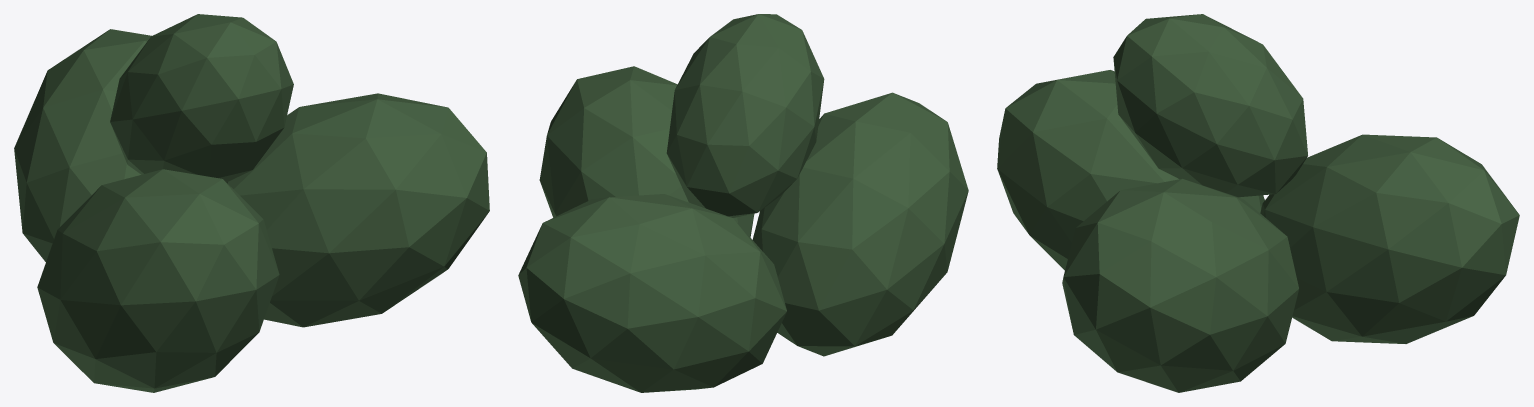
Rendered from Coconut_1.glb.
The picture shows the model from 3 angles, left to right: view 1: azimuth 30°, elevation 25°; view 2: azimuth 150°, elevation 25°; view 3: azimuth 270°, elevation 25°; orthographic projection. The views are drawn at different scales.
Visible parts, largest first — view 1: CoconutGroup; view 2: CoconutGroup; view 3: CoconutGroup.
Boxes of the visible parts, x1=… form: CoconutGroup: x1=14, y1=14, x2=489, y2=392; CoconutGroup: x1=518, y1=14, x2=968, y2=392; CoconutGroup: x1=997, y1=14, x2=1519, y2=392.
Size of the model in its own units: 0.4408 by 0.3353 by 0.4864.
